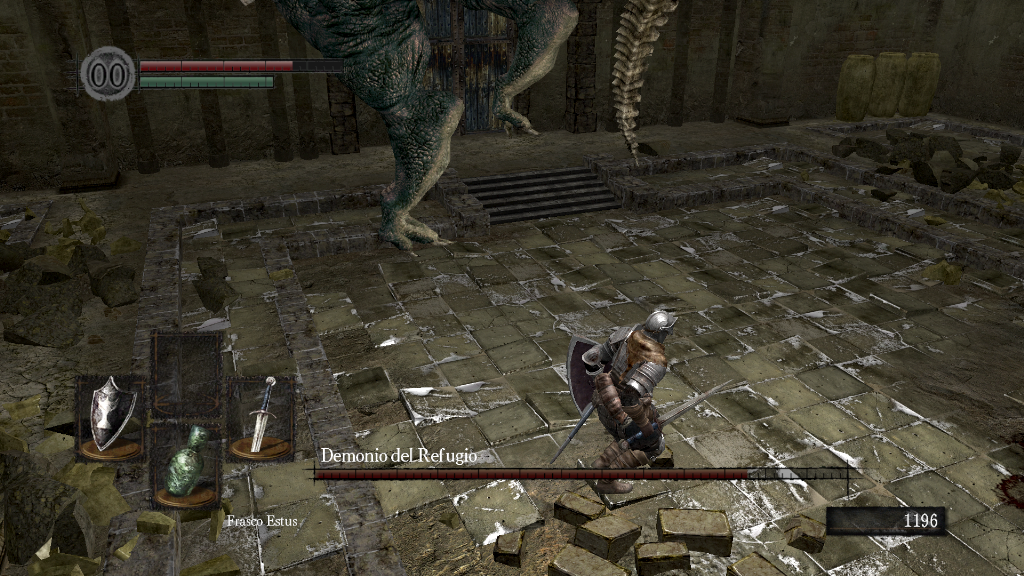asylumDemon: (284, 1, 683, 258)
bossHP: (314, 469, 847, 479)
health: (138, 58, 343, 71)
humanity: (80, 45, 136, 102)
player: (565, 307, 734, 498)
souls: (825, 506, 945, 536)
stamina: (138, 74, 274, 88)
